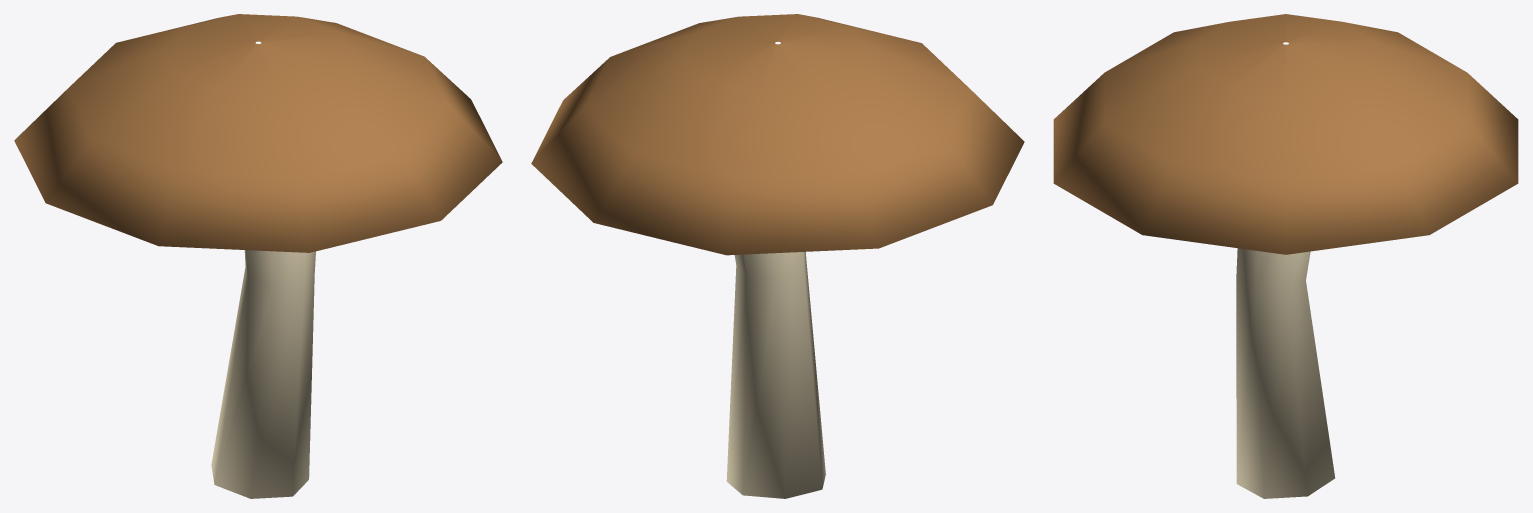
The model's file is fruiting-body.glb.
3 views of the same model, side by side, from view 1: azimuth 30°, elevation 25°; view 2: azimuth 150°, elevation 25°; view 3: azimuth 270°, elevation 25° (orthographic).
Parts seen in each view (by area): view 1: fungus_fruitingBody_LOD0; view 2: fungus_fruitingBody_LOD0; view 3: fungus_fruitingBody_LOD0.
Part boxes in pixels (x1,y1,x2,y2): fungus_fruitingBody_LOD0: (14,14,502,498); fungus_fruitingBody_LOD0: (531,14,1024,498); fungus_fruitingBody_LOD0: (1053,14,1518,498).
Size of the model in its own units: 0.82 by 0.8074 by 0.78.
